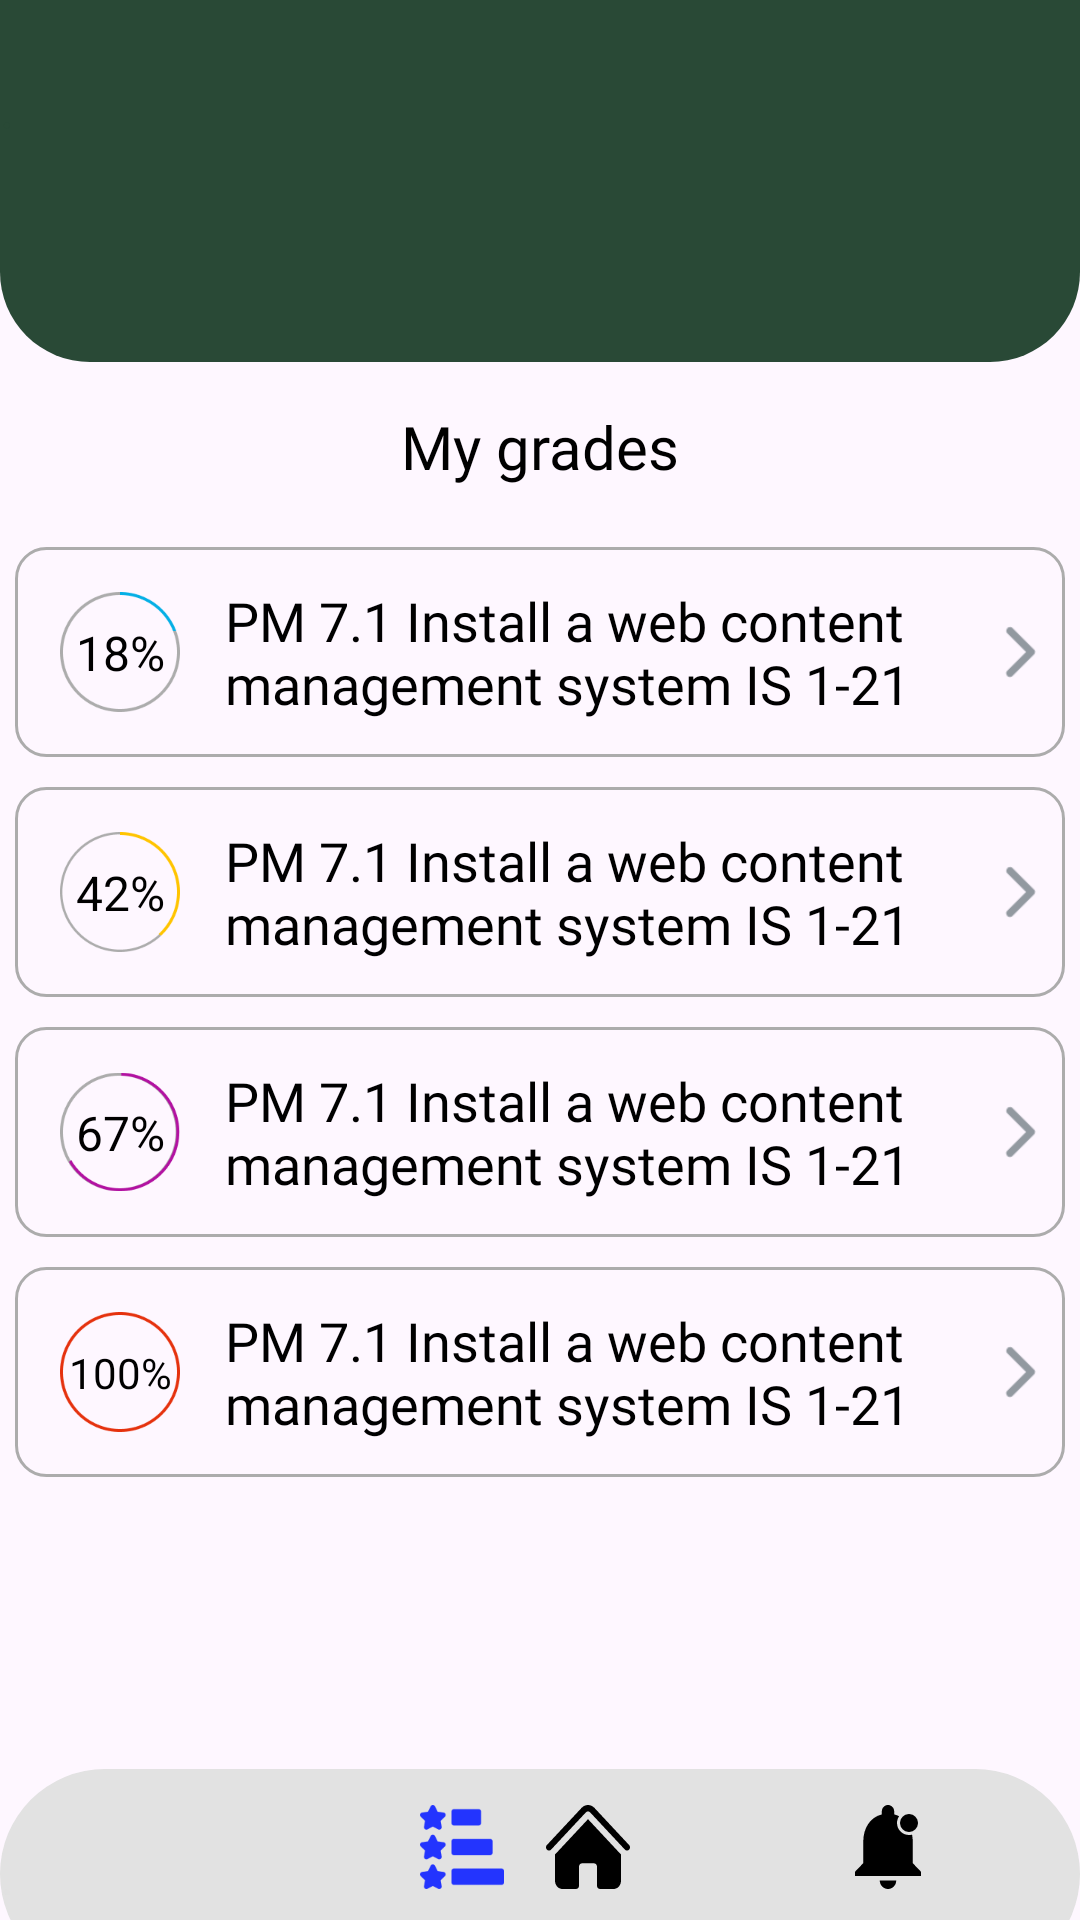

Icons on this 1080px×1920px Android screen, each with the point to tap as (x=x, y=y):
circle: (x=120, y=652), (x=120, y=892), (x=120, y=1132), (x=120, y=1372)
notifications: (x=888, y=1847)
starsblue: (x=462, y=1847)
strelkagray: (x=1020, y=652), (x=1020, y=892), (x=1020, y=1132), (x=1020, y=1372)
